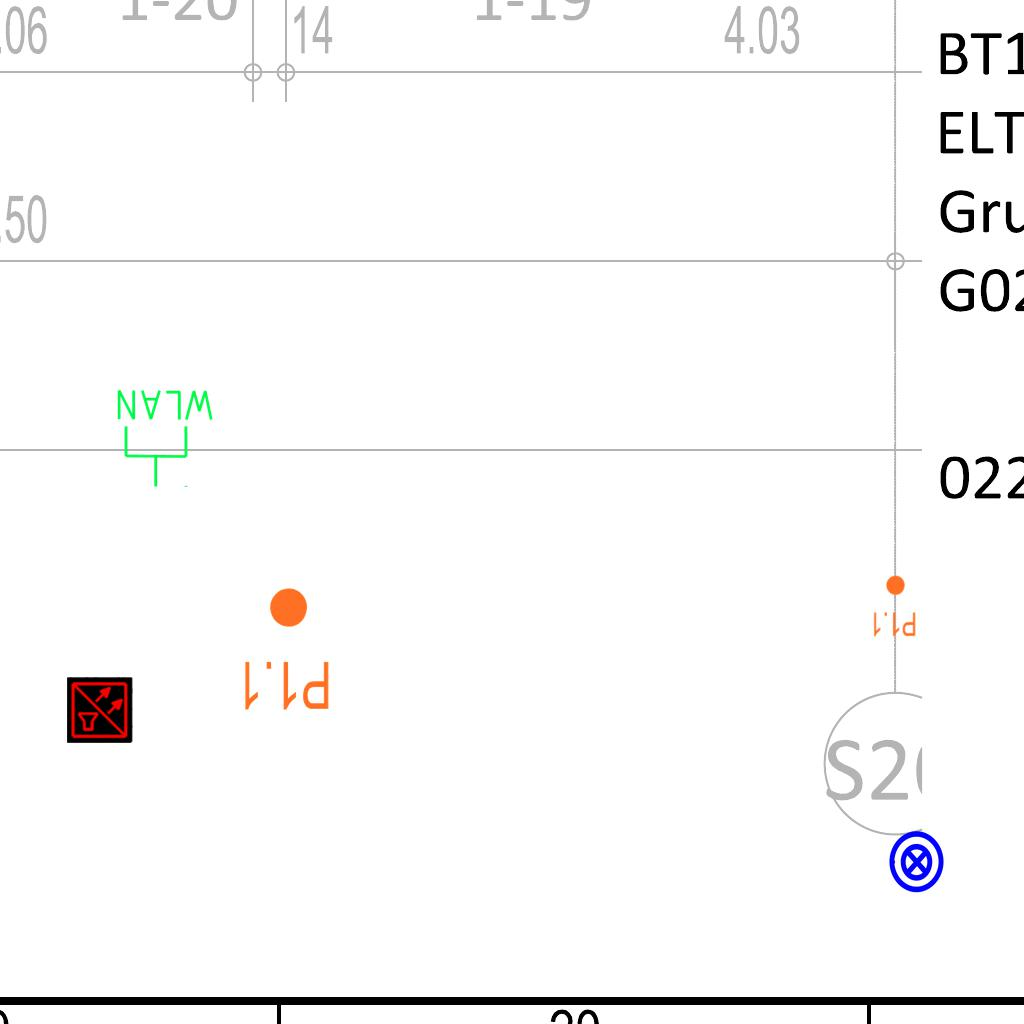Downlight_LED_Einbauleuchten_Flur: (239, 585, 332, 713), (871, 574, 917, 638)
OKW_Multisensormelder_(Kombination_optischer_Rauch-Kahlenmonoxid_Waerme-Melder): (67, 677, 133, 743)
Taster_beleuchtet: (884, 829, 950, 895)
WLAN: (113, 386, 218, 490)
